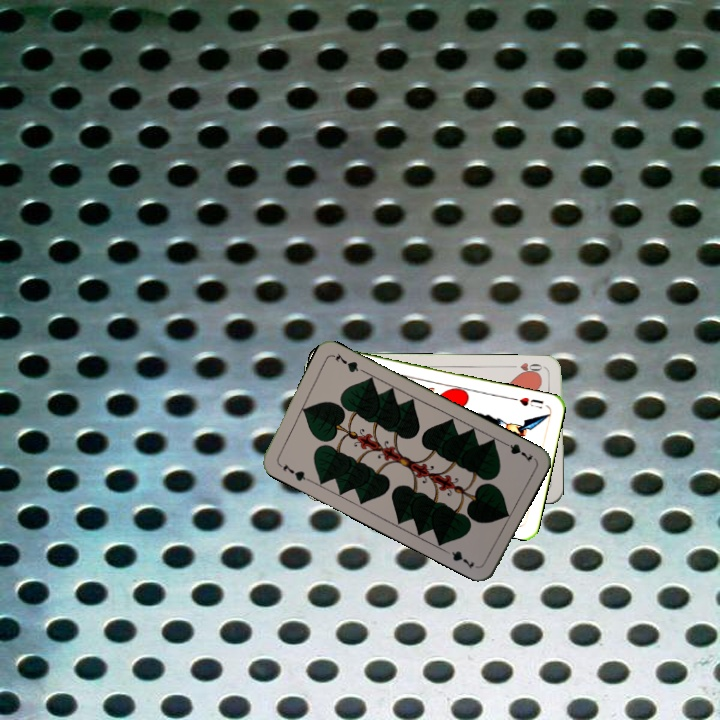G7: (498, 437, 535, 465), (274, 459, 312, 484)
HO: (508, 358, 548, 378)
HU: (509, 393, 546, 411)
